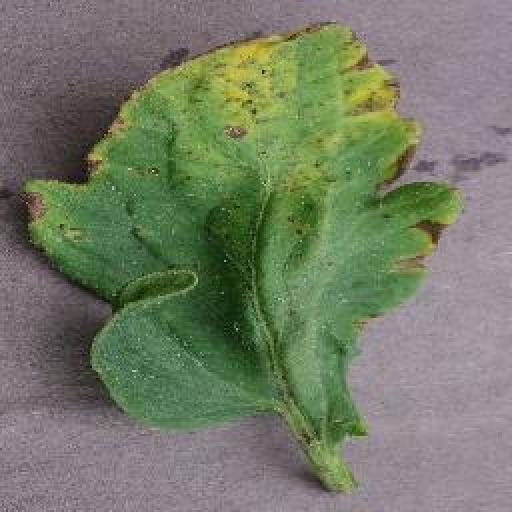Bacterial Spot: (14, 12, 464, 499)
